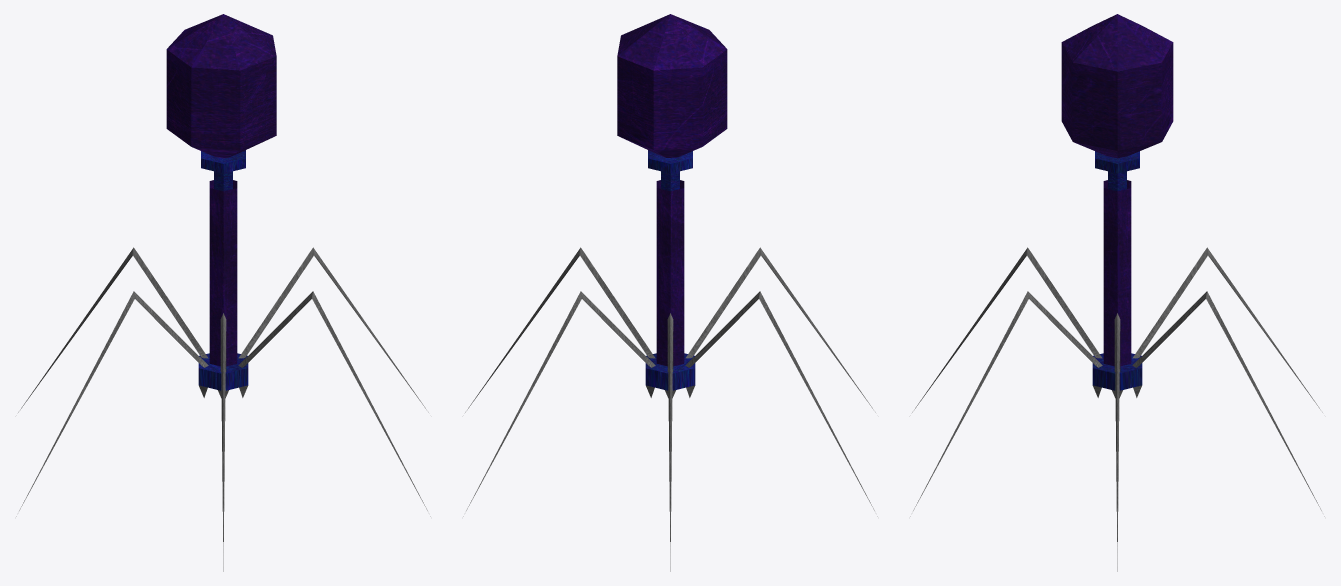
File: Virus_Textured.fbx
3 renders of one model, left to right at view 1: azimuth 30°, elevation 25°; view 2: azimuth 150°, elevation 25°; view 3: azimuth 270°, elevation 25°, orthographic.
Visible parts, largest first — view 1: Head, Center_Covering, Center_Spine, Leg1, Leg5, Leg2, Leg4, Leg6; view 2: Head, Center_Covering, Center_Spine, Leg1, Leg3, Leg4, Leg6, Leg2; view 3: Head, Center_Covering, Center_Spine, Leg3, Leg5, Leg2, Leg6, Leg4.
Boxes of the visible parts, bbox=[...] form: Head: bbox=[166, 14, 276, 157]; Center_Covering: bbox=[209, 180, 237, 366]; Center_Spine: bbox=[198, 150, 248, 390]; Leg1: bbox=[16, 291, 208, 516]; Leg5: bbox=[238, 291, 430, 516]; Leg2: bbox=[18, 247, 208, 412]; Leg4: bbox=[238, 247, 428, 412]; Leg6: bbox=[220, 313, 226, 571]; Head: bbox=[617, 14, 727, 157]; Center_Covering: bbox=[656, 180, 684, 366]; Center_Spine: bbox=[645, 150, 695, 390]; Leg1: bbox=[685, 291, 877, 516]; Leg3: bbox=[463, 291, 655, 516]; Leg4: bbox=[465, 247, 655, 412]; Leg6: bbox=[685, 247, 875, 412]; Leg2: bbox=[667, 313, 673, 571]; Head: bbox=[1061, 14, 1173, 158]; Center_Covering: bbox=[1103, 180, 1131, 366]; Center_Spine: bbox=[1092, 151, 1142, 390]; Leg3: bbox=[1132, 291, 1324, 516]; Leg5: bbox=[910, 291, 1102, 516]; Leg2: bbox=[1132, 247, 1322, 412]; Leg6: bbox=[912, 247, 1102, 412]; Leg4: bbox=[1114, 313, 1120, 571].
Size of the model in its own units: 14.97 by 15.56 by 12.96.
